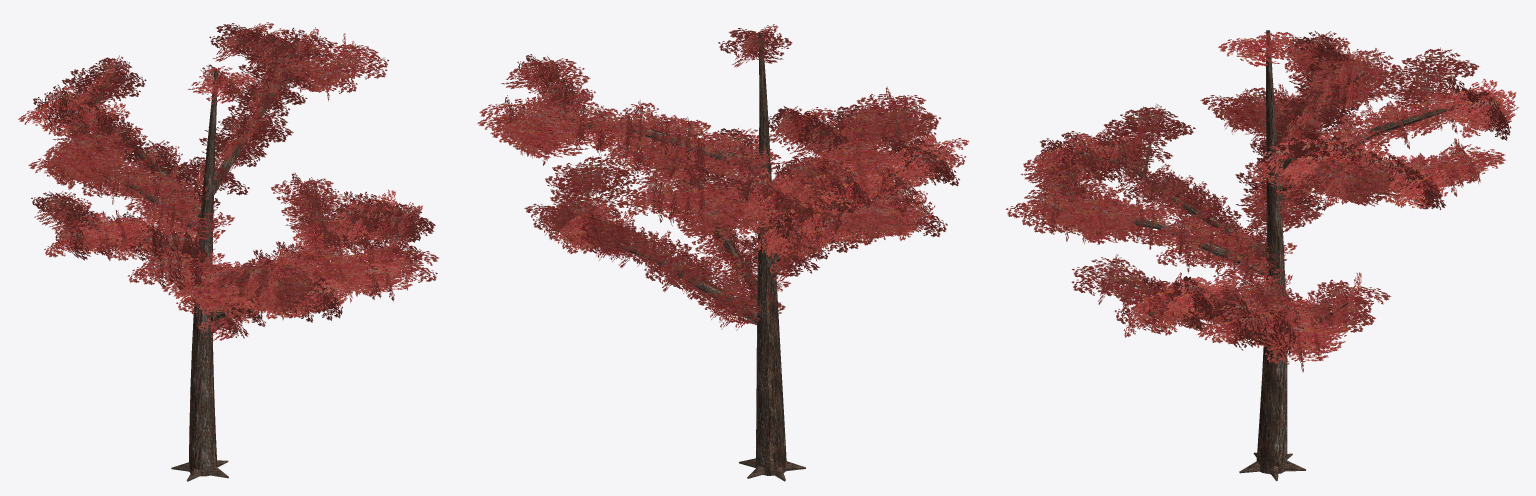
File: tree_3d_04_red_lod0.glb
The picture shows the model from 3 angles, left to right: view 1: azimuth 30°, elevation 25°; view 2: azimuth 150°, elevation 25°; view 3: azimuth 270°, elevation 25°; orthographic projection. The views are drawn at different scales.
Parts seen in each view (by area): view 1: foliage_cards, wood_geometry; view 2: foliage_cards, wood_geometry; view 3: foliage_cards, wood_geometry.
Part boxes in pixels (<box>): foliage_cards: <box>18,22,439,341</box>; wood_geometry: <box>61,35,402,481</box>; foliage_cards: <box>477,24,969,330</box>; wood_geometry: <box>534,33,927,481</box>; foliage_cards: <box>1006,31,1518,372</box>; wood_geometry: <box>1051,30,1492,480</box>.
Bounding box in the file's own units: 8.14 × 8.31 × 8.74.
2 materials, 2 textured.
